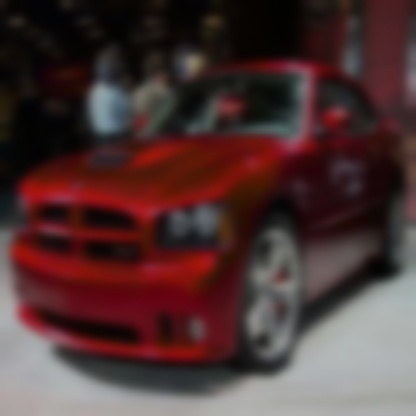Vehicle: (11, 56, 411, 380)
